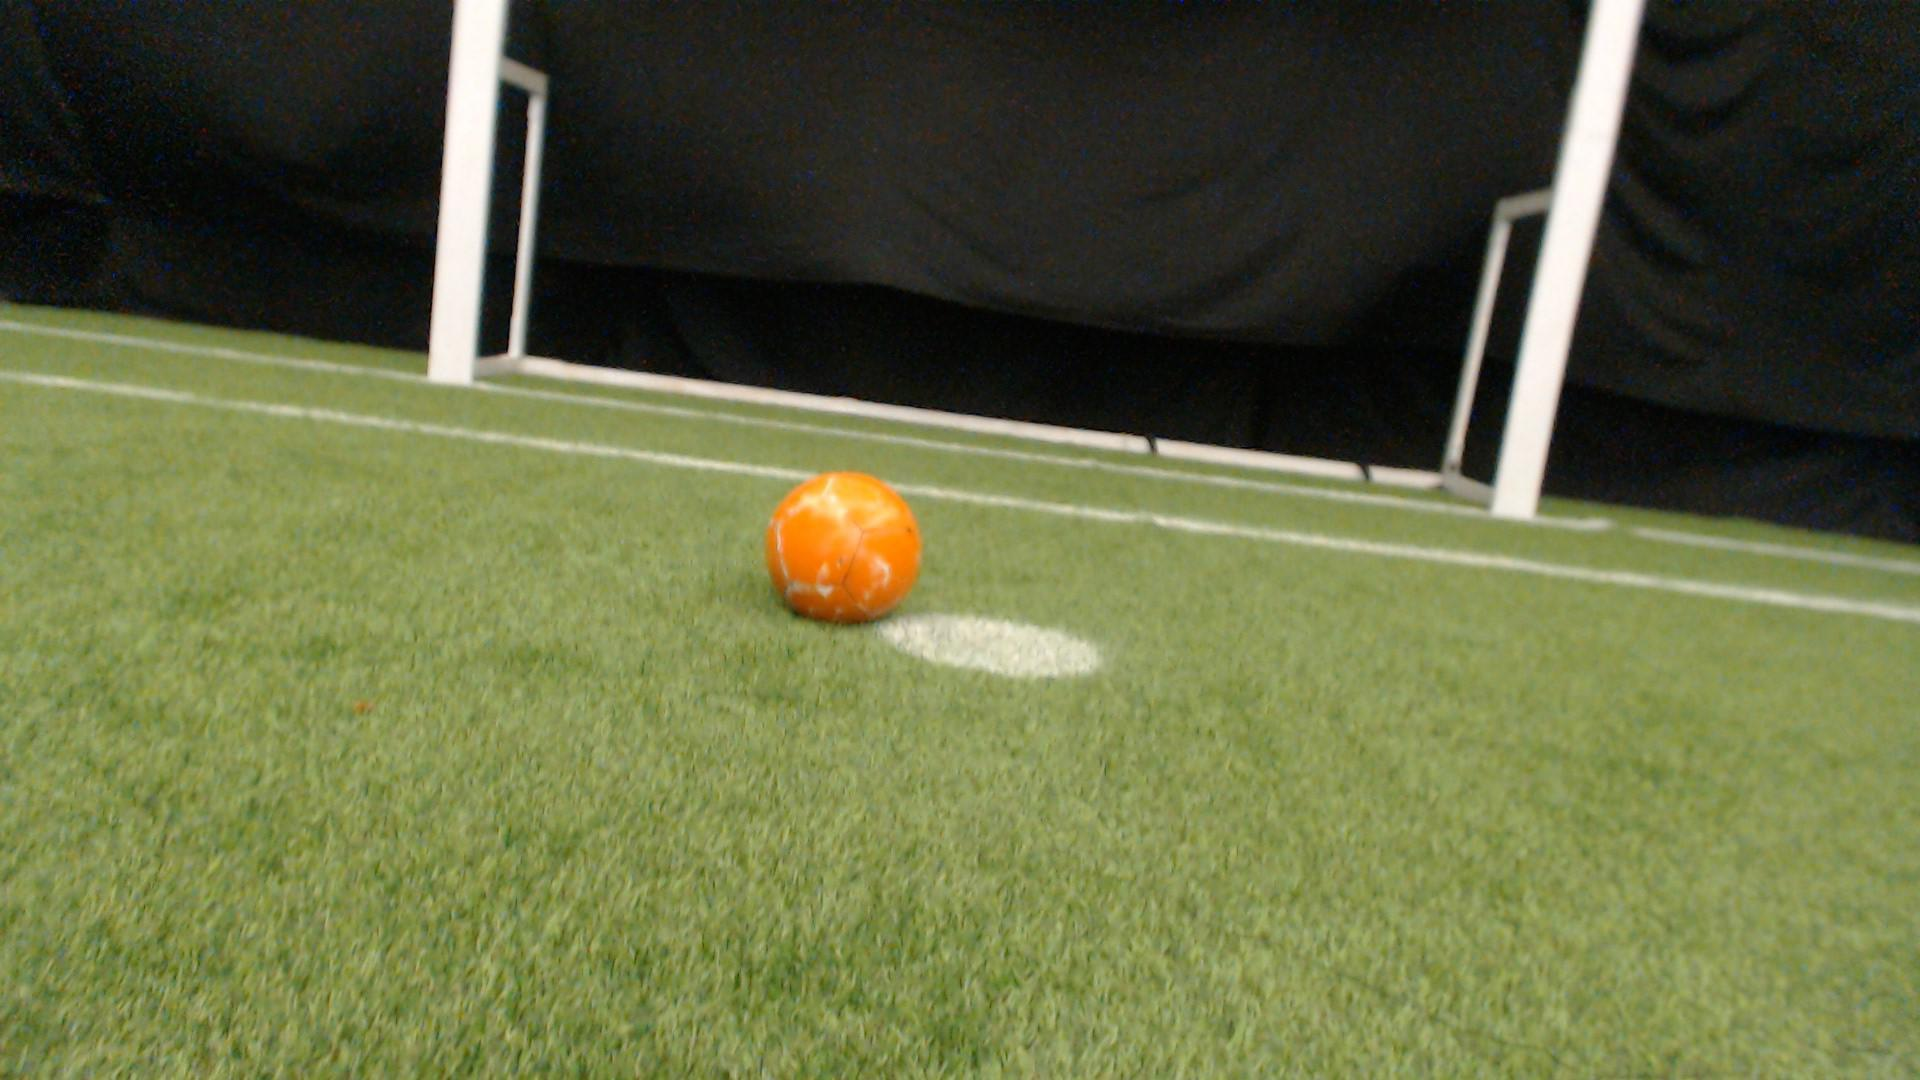bola: (748, 455, 939, 644)
